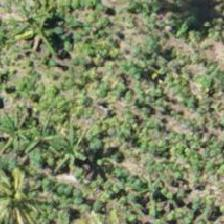coconut_tree: (0, 160, 54, 223)
